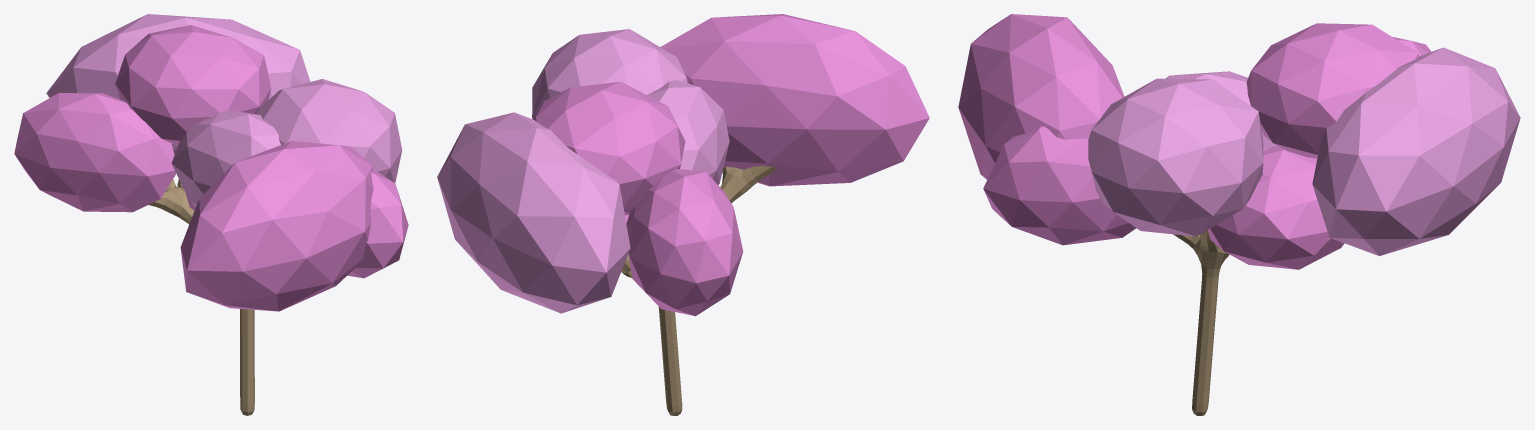
Rendered from Sakura_no_cam.fbx.
3 renders of one model, left to right at view 1: azimuth 30°, elevation 25°; view 2: azimuth 150°, elevation 25°; view 3: azimuth 270°, elevation 25°, orthographic. The views are drawn at different scales.
Parts seen in each view (by area): view 1: Icosphere.005, Icosphere.004, Icosphere.001, Icosphere.003, Icosphere.002, Icosphere.006, Icosphere.007, Plane; view 2: Icosphere.005, Icosphere.002, Icosphere.004, Icosphere.001, Icosphere.003, Icosphere.006, Plane; view 3: Icosphere.002, Icosphere.003, Icosphere.005, Icosphere.001, Icosphere.007, Icosphere.008, Plane, Icosphere.006.
Part boxes in pixels (x1,y1,x2,y2): Icosphere.005: [180, 141, 374, 311]; Icosphere.004: [14, 93, 176, 212]; Icosphere.001: [115, 25, 271, 145]; Icosphere.003: [255, 79, 402, 182]; Icosphere.002: [46, 14, 310, 154]; Icosphere.006: [171, 110, 280, 206]; Icosphere.007: [347, 170, 408, 278]; Plane: [149, 179, 254, 415]; Icosphere.005: [660, 14, 929, 186]; Icosphere.002: [437, 112, 630, 313]; Icosphere.004: [626, 169, 743, 316]; Icosphere.001: [532, 81, 685, 215]; Icosphere.003: [532, 29, 688, 118]; Icosphere.006: [647, 80, 729, 184]; Plane: [621, 165, 777, 415]; Icosphere.002: [1312, 47, 1520, 255]; Icosphere.003: [1088, 78, 1263, 236]; Icosphere.005: [958, 14, 1124, 179]; Icosphere.001: [1246, 23, 1418, 158]; Icosphere.007: [983, 126, 1136, 245]; Icosphere.008: [1208, 146, 1344, 269]; Plane: [1173, 230, 1229, 415]; Icosphere.006: [1166, 71, 1277, 151].
Size of the model in its own units: 663 by 759 by 995.
